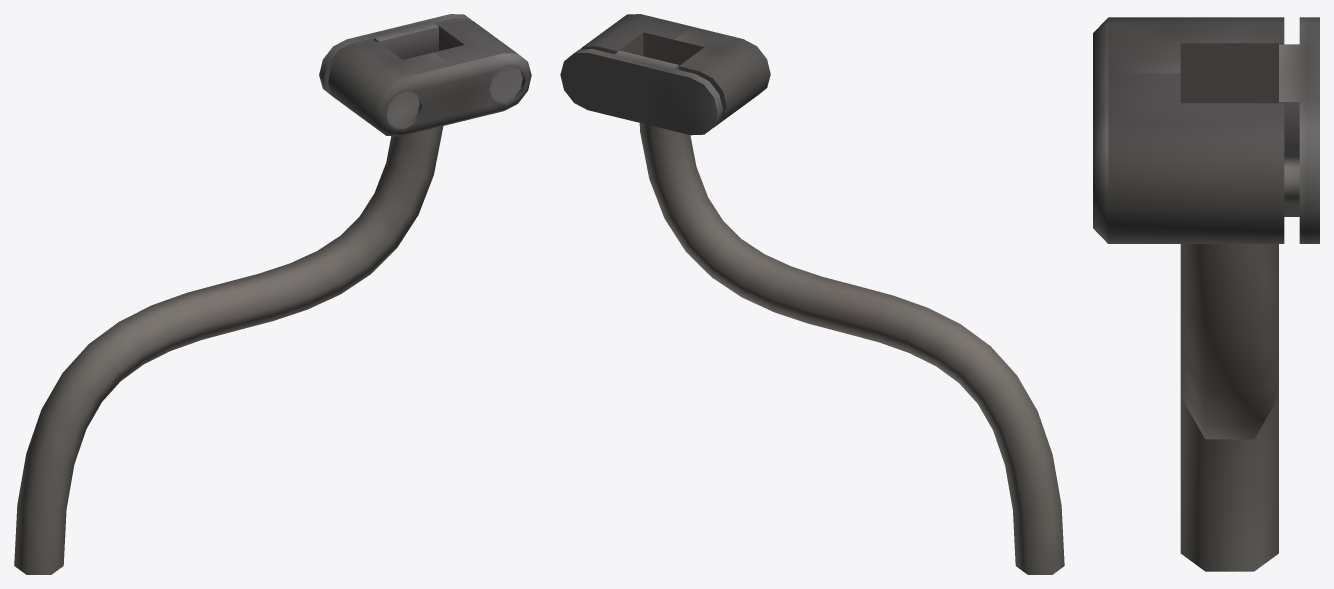
The model's file is wall-cable-bend--3.gltf.
The picture shows the model from 3 angles, left to right: view 1: azimuth 30°, elevation 25°; view 2: azimuth 150°, elevation 25°; view 3: azimuth 270°, elevation 25°; orthographic projection. The views are drawn at different scales.
Visible parts, largest first — view 1: cable_scurve_1; view 2: cable_scurve_1; view 3: cable_scurve_1.
Boxes of the visible parts, x1,y1,x2,y2 form: cable_scurve_1: (14, 14, 531, 574); cable_scurve_1: (560, 14, 1064, 574); cable_scurve_1: (1093, 17, 1319, 571).
Size of the model in its own units: 0.1257 by 0.1073 by 0.0259.
Materials: 1 (1 with a texture image).
